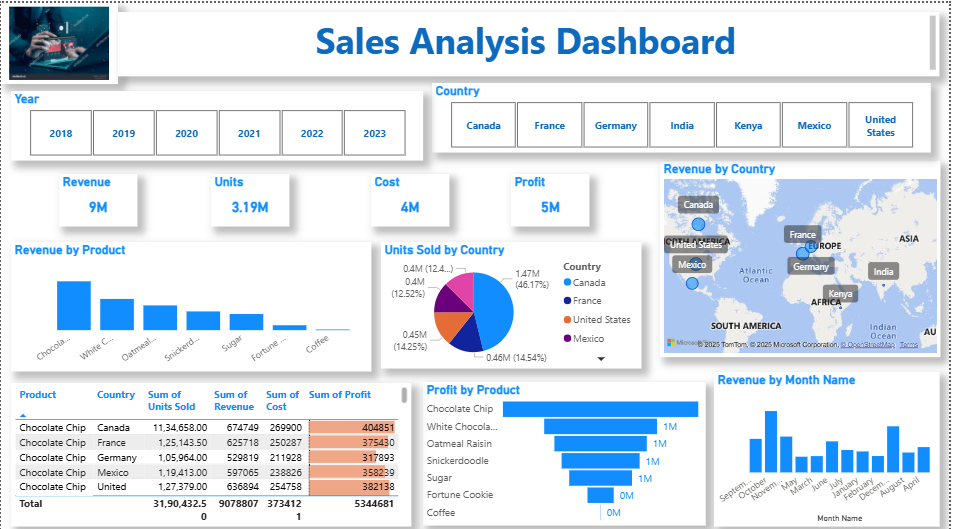

What the dashboard file says about the page in this screenshot:
{"tool":"powerbi","page":{"name":"Dashboard","canvas":[1280,720],"ordinal":0},"visuals":[{"type":"image","box":[0,0,158,108.7],"z":0},{"type":"textbox","box":[158,11.6,1110.1,87],"z":1000},{"type":"card","title":"Revenue","fields":{"Values":["Sum(Sheet1.Revenue)"]},"box":[78.3,230.4,105.8,71],"z":2000},{"type":"card","title":"Units","fields":{"Values":["Sum(Sheet1.Units Sold)"]},"box":[284.1,230.4,105.8,71],"z":3000},{"type":"card","title":"Cost","fields":{"Values":["Sum(Sheet1.Cost)"]},"box":[500,230.4,105.8,71],"z":4000},{"type":"card","title":"Profit","fields":{"Values":["Sum(Sheet1.Profit)"]},"box":[689.9,230.4,105.8,71],"z":5000},{"type":"columnChart","title":"Revenue by Product","fields":{"Y":["Sum(Sheet1.Revenue)"],"Category":["Sheet1.Product"]},"box":[13,323.2,487,175.4],"z":6000},{"type":"pieChart","title":"Units Sold by Country","fields":{"Y":["Sum(Sheet1.Units Sold)"],"Category":["Sheet1.Country"]},"box":[513,323.2,352.2,171],"z":7000},{"type":"map","title":"Revenue by Country","fields":{"Size":["Sum(Sheet1.Revenue)"],"Category":["Sheet1.Country"]},"box":[889.9,213.1,378.7,265],"z":8000},{"type":"funnel","title":"Profit by Product","fields":{"Category":["Sheet1.Product"],"Y":["Sum(Sheet1.Profit)"]},"box":[570.2,512.6,381.6,194.4],"z":9000},{"type":"tableEx","fields":{"Values":["Sheet1.Product","Sheet1.Country","Sum(Sheet1.Units Sold)","Sum(Sheet1.Revenue)","Sum(Sheet1.Cost)","Sum(Sheet1.Profit)"]},"box":[13,513,540.6,194.2],"z":10000},{"type":"columnChart","title":"Revenue by Month Name","fields":{"Category":["Sheet1.Month Name"],"Y":["Sum(Sheet1.Revenue)"]},"box":[963.4,498.2,305.3,208.8],"z":11000},{"type":"slicer","title":"Country","fields":{"Values":["Sheet1.Country"]},"box":[582.6,108.7,673.9,94.2],"z":12000},{"type":"slicer","title":"Year","fields":{"Values":["Sheet1.Year"]},"box":[13,119.5,557.3,93.6],"z":13000}]}

Visuals, with their boxes in screenshot pixels (x1, y1, x2, y2), scaled from the page's 1280x720 canvas onto the 953x529 screenshot:
image: select_region(0, 0, 118, 80)
textbox: select_region(118, 9, 944, 72)
"Revenue" card: select_region(58, 169, 137, 221)
"Units" card: select_region(212, 169, 290, 221)
"Cost" card: select_region(372, 169, 451, 221)
"Profit" card: select_region(514, 169, 592, 221)
"Revenue by Product" columnChart: select_region(10, 237, 372, 366)
"Units Sold by Country" pieChart: select_region(382, 237, 644, 363)
"Revenue by Country" map: select_region(663, 157, 945, 351)
"Profit by Product" funnel: select_region(425, 377, 709, 519)
tableEx - Sheet1.Product x Sheet1.Country: select_region(10, 377, 412, 520)
"Revenue by Month Name" columnChart: select_region(717, 366, 945, 519)
"Country" slicer: select_region(434, 80, 936, 149)
"Year" slicer: select_region(10, 88, 425, 157)
